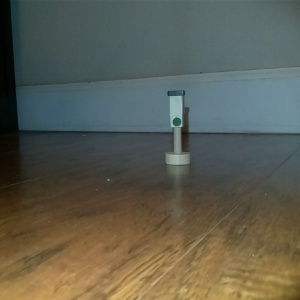traffic light green: (163, 87, 191, 168)
